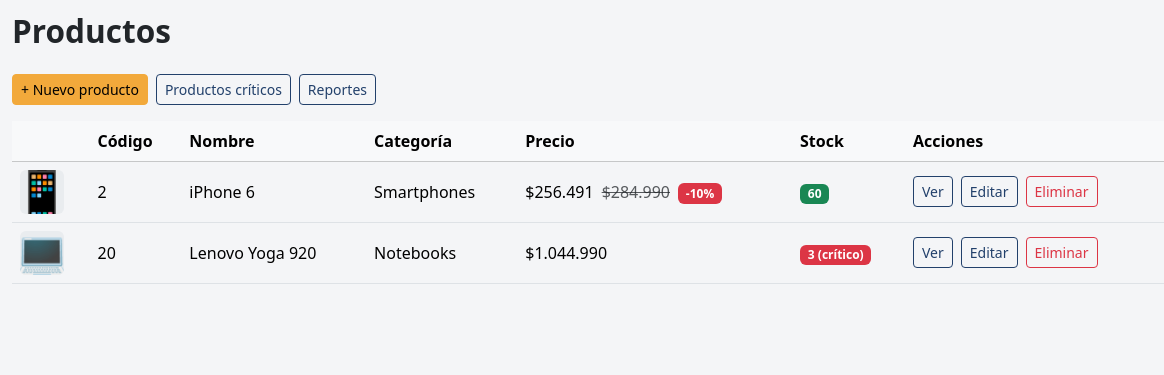
Test case: Vista AdminProductos › el administrador elimina un producto: muestra el error del backend y luego lo quita de la tabla
The image size is (1164, 375).
What coordinates should you click on to do the following:
click the button "Eliminar" in the row of "iPhone 6"
I would click on:
 (1062, 192)
Its box is [1026,176,1098,207].
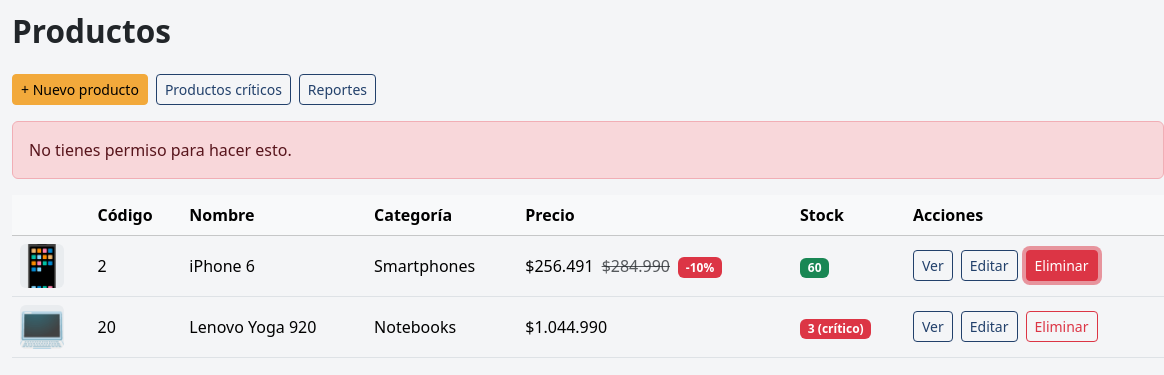
Expected: the text "iPhone 6" is shown, [181,235,366,296]
Expected: the message reads "No tienes permiso para hacer esto.", [29,139,292,161]
What coordinates should you click on to do the following:
click the button "Eliminar" in the row of "iPhone 6"
I would click on:
 (1062, 266)
Its box is [1026,250,1098,281].
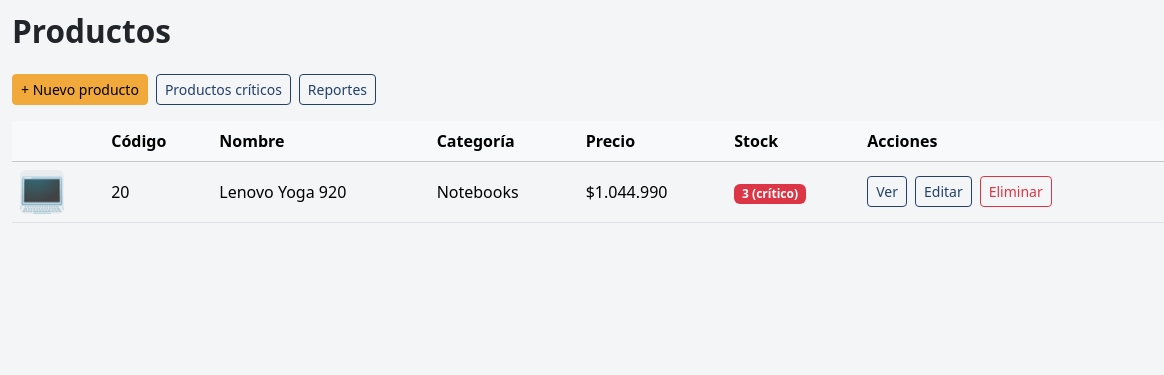
Expected: the text "iPhone 6" is gone
Expected: the message "No tienes permiso para hacer esto." is gone
